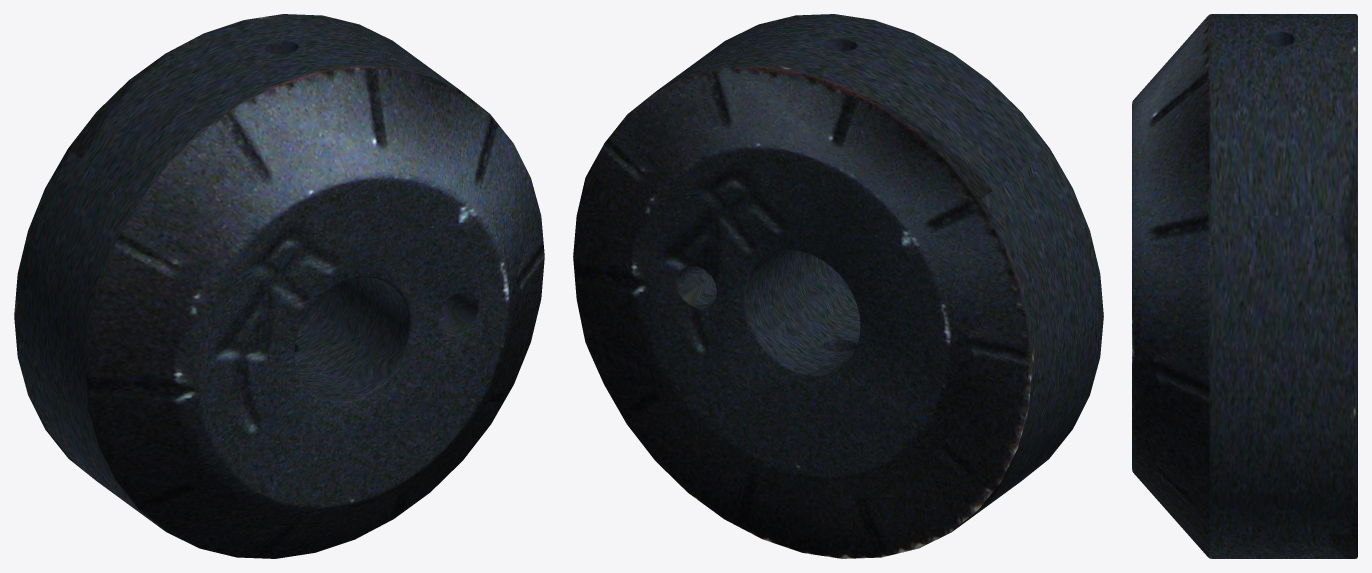
File: Windage_Knob.dae
3 renders of one model, left to right at view 1: azimuth 30°, elevation 25°; view 2: azimuth 150°, elevation 25°; view 3: azimuth 270°, elevation 25°, orthographic. The views are drawn at different scales.
Visible parts, largest first — view 1: Windage_Knob; view 2: Windage_Knob; view 3: Windage_Knob.
Part boxes in pixels (bbox=[...]): Windage_Knob: bbox=[14, 14, 544, 558]; Windage_Knob: bbox=[573, 14, 1103, 558]; Windage_Knob: bbox=[1132, 14, 1357, 558].
Bounding box in the file's own units: 0.0177 × 0.00731 × 0.0177.
Materials: 1 (1 with a texture image).
